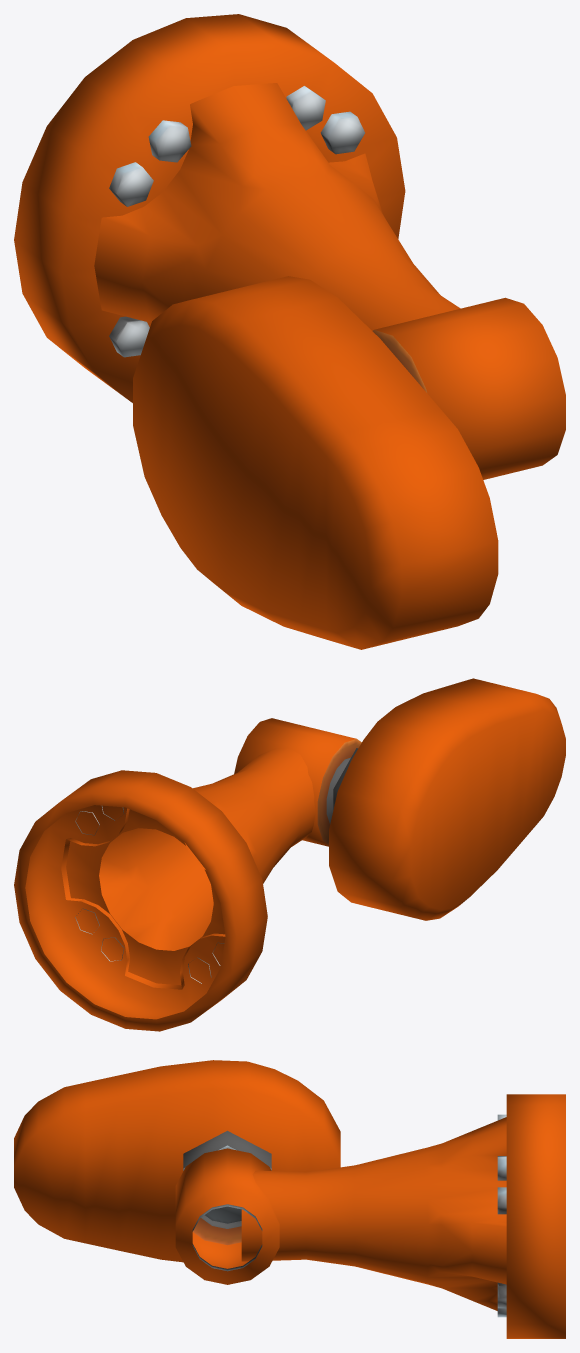
The picture shows the model from 3 angles, top to bottom: view 1: azimuth 30°, elevation 25°; view 2: azimuth 150°, elevation 25°; view 3: azimuth 270°, elevation 25°; orthographic projection. The views are drawn at different scales.
Visible parts, largest first — view 1: Object_94.420; view 2: Object_94.420; view 3: Object_94.420.
Boxes of the visible parts, <box> form: Object_94.420: <box>14,14,565,649</box>; Object_94.420: <box>14,678,565,1031</box>; Object_94.420: <box>14,1060,565,1338</box>.
Bounding box in the file's own units: 0.9939 × 1.83 × 0.816.
4 materials, 1 textured.
